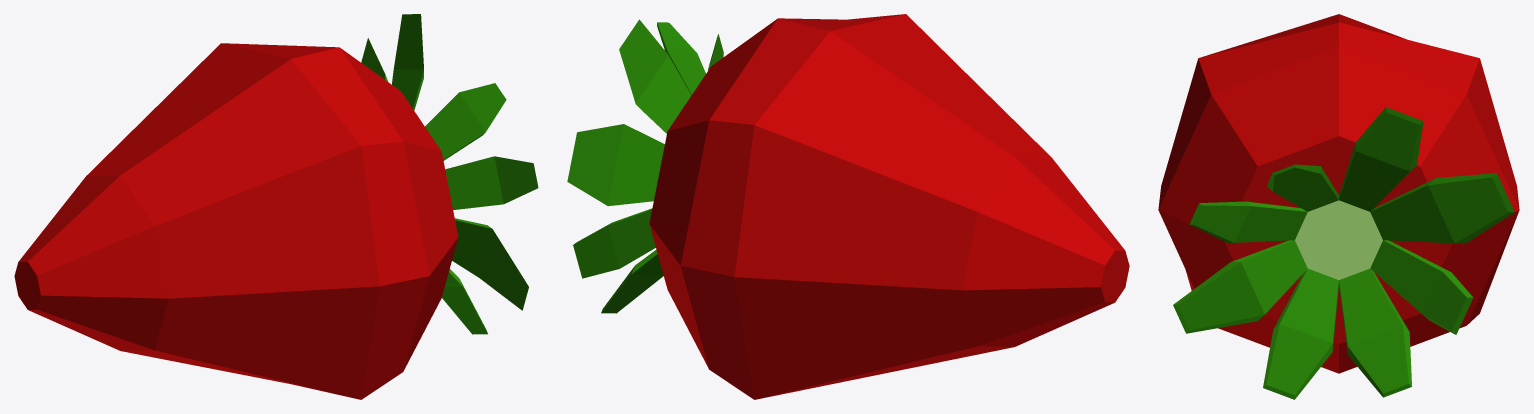
File: strawberry01.obj
The picture shows the model from 3 angles, left to right: view 1: azimuth 30°, elevation 25°; view 2: azimuth 150°, elevation 25°; view 3: azimuth 270°, elevation 25°; orthographic projection. The views are drawn at different scales.
Parts seen in each view (by area): view 1: Cylinder.001; view 2: Cylinder.001; view 3: Cylinder.001.
Part boxes in pixels (x1,y1,x2,y2): Cylinder.001: [14, 14, 538, 399]; Cylinder.001: [567, 14, 1129, 399]; Cylinder.001: [1158, 14, 1519, 399].
Size of the model in its own units: 0.049 by 0.0343 by 0.0342.
1 material, 1 textured.
